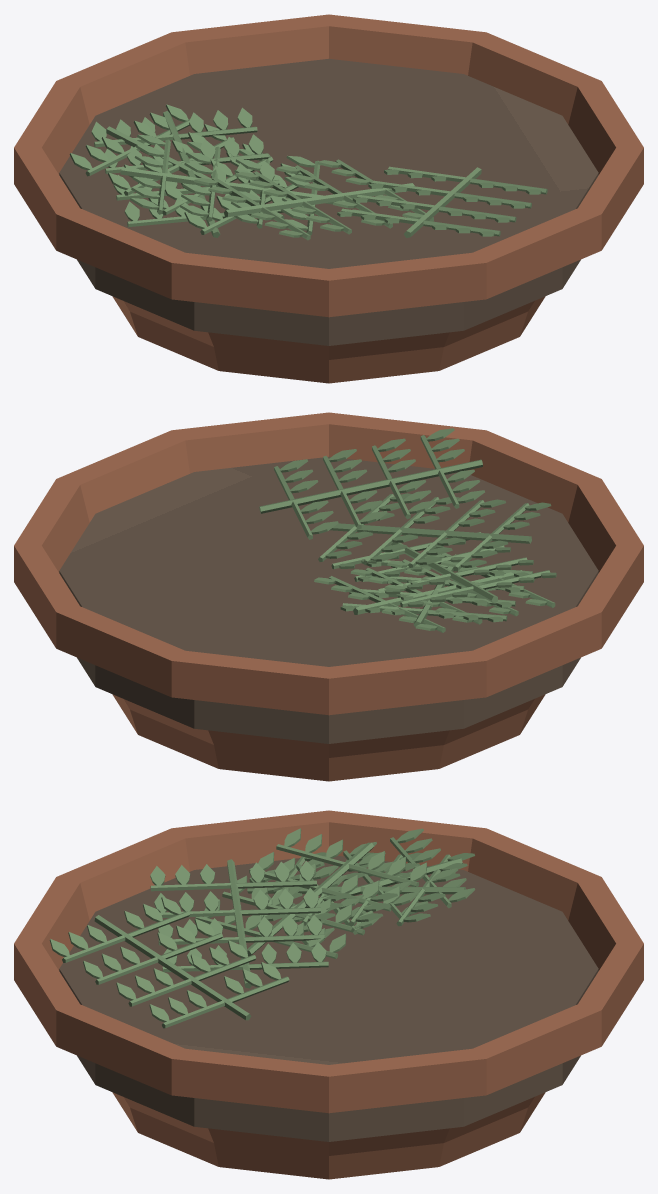
Rendered from moss-tamariscinum.glb.
3 views of the same model, one above another, from view 1: azimuth 30°, elevation 25°; view 2: azimuth 150°, elevation 25°; view 3: azimuth 270°, elevation 25° (orthographic).
Visible parts, largest first — view 1: moss-tamariscinum/review-terra-vessel, moss-tamariscinum/review-rooted-soil, moss-tamariscinum/moss-axis-100, moss-tamariscinum/moss-axis-067, moss-tamariscinum/moss-axis-133, moss-tamariscinum/moss-axis-034, moss-tamariscinum/moss-axis-001; view 2: moss-tamariscinum/review-terra-vessel, moss-tamariscinum/review-rooted-soil, moss-tamariscinum/moss-axis-133, moss-tamariscinum/moss-axis-100, moss-tamariscinum/moss-axis-001, moss-tamariscinum/moss-axis-067; view 3: moss-tamariscinum/review-terra-vessel, moss-tamariscinum/review-rooted-soil, moss-tamariscinum/moss-axis-133, moss-tamariscinum/moss-axis-067, moss-tamariscinum/moss-axis-100, moss-tamariscinum/moss-axis-001, moss-tamariscinum/moss-axis-034.
Boxes of the visible parts, x1,y1,x2,y2 form: moss-tamariscinum/review-terra-vessel: (14, 14, 643, 383); moss-tamariscinum/review-rooted-soil: (59, 58, 598, 345); moss-tamariscinum/moss-axis-100: (224, 183, 414, 217); moss-tamariscinum/moss-axis-067: (120, 167, 345, 204); moss-tamariscinum/moss-axis-133: (404, 167, 481, 237); moss-tamariscinum/moss-axis-034: (106, 126, 284, 218); moss-tamariscinum/moss-axis-001: (163, 111, 220, 237); moss-tamariscinum/review-terra-vessel: (14, 412, 643, 781); moss-tamariscinum/review-rooted-soil: (59, 456, 598, 743); moss-tamariscinum/moss-axis-133: (259, 459, 482, 513); moss-tamariscinum/moss-axis-100: (329, 523, 531, 543); moss-tamariscinum/moss-axis-001: (353, 570, 521, 614); moss-tamariscinum/moss-axis-067: (390, 542, 497, 603); moss-tamariscinum/review-terra-vessel: (14, 810, 643, 1179); moss-tamariscinum/review-rooted-soil: (59, 855, 598, 1141); moss-tamariscinum/moss-axis-133: (94, 915, 251, 1020); moss-tamariscinum/moss-axis-067: (247, 842, 374, 956); moss-tamariscinum/moss-axis-100: (227, 859, 251, 988); moss-tamariscinum/moss-axis-001: (247, 886, 465, 894); moss-tamariscinum/moss-axis-034: (247, 858, 462, 919).
Bounding box in the file's own units: 0.25 × 0.0677 × 0.25.
3 materials, 3 textured.
